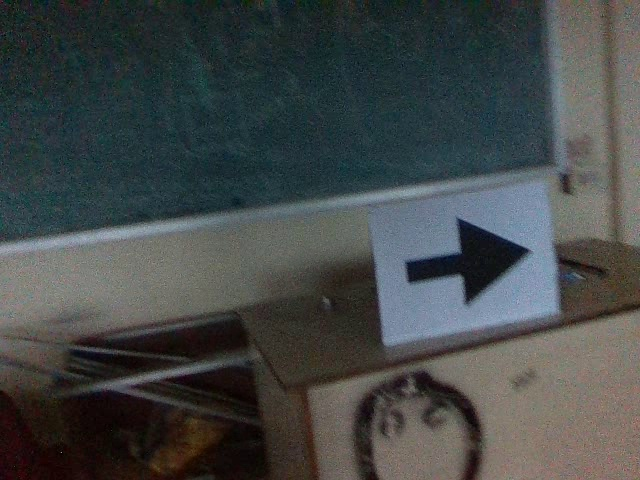Right: (398, 212, 535, 312)
